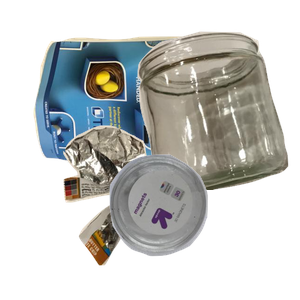glass: (135, 29, 300, 209)
paper: (31, 34, 252, 205)
plastic: (107, 152, 300, 300)
trash: (61, 123, 273, 300)
